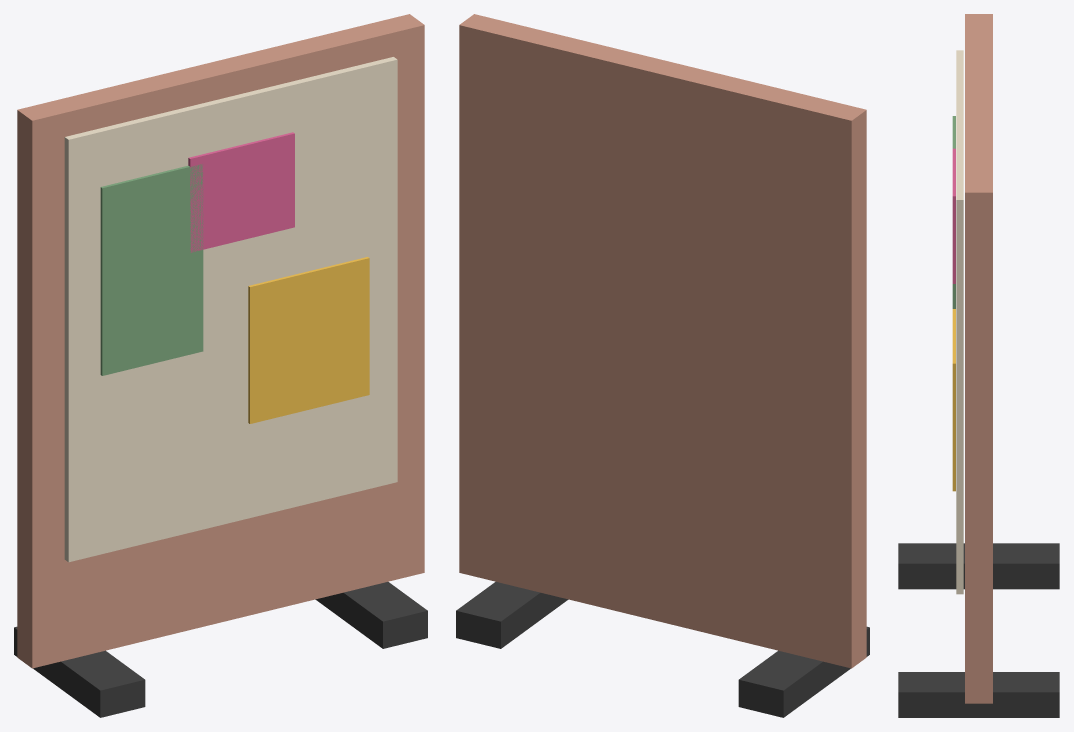
3 renders of one model, left to right at view 1: azimuth 30°, elevation 25°; view 2: azimuth 150°, elevation 25°; view 3: azimuth 270°, elevation 25°, orthographic. The views are drawn at different scales.
Visible parts, largest first — view 1: Canvas, Panel, Abstract geometric work, Abstract geometric work.001, Abstract geometric work.002, Panel foot, Panel foot.001; view 2: Panel, Panel foot, Panel foot.001; view 3: Panel, Panel foot.001, Panel foot, Canvas, Abstract geometric work.001, Abstract geometric work.002.
Boxes of the visible parts, x1,y1,x2,y2 form: Canvas: (64, 57, 397, 562); Panel: (17, 14, 424, 668); Abstract geometric work: (100, 164, 203, 375); Abstract geometric work.001: (248, 257, 369, 423); Abstract geometric work.002: (188, 132, 294, 252); Panel foot: (14, 626, 145, 717); Panel foot.001: (315, 582, 427, 648); Panel: (459, 14, 866, 668); Panel foot: (738, 626, 869, 717); Panel foot.001: (456, 582, 568, 648); Panel: (965, 14, 992, 703); Panel foot.001: (898, 672, 1059, 717); Panel foot: (898, 543, 1059, 589); Canvas: (956, 50, 963, 594); Abstract geometric work.001: (952, 309, 955, 491); Abstract geometric work.002: (952, 148, 955, 283).
Bounding box in the file's own units: 1.05 × 1.48 × 0.4.
1 material, 1 textured.
